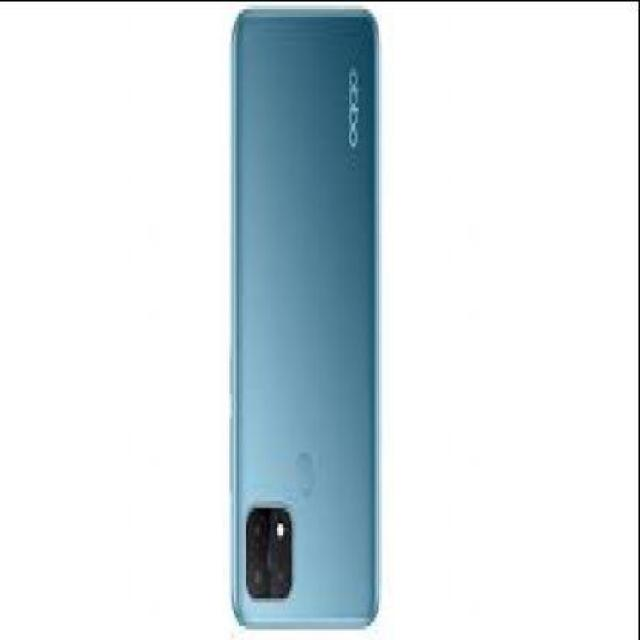mobile: (230, 9, 382, 625)
